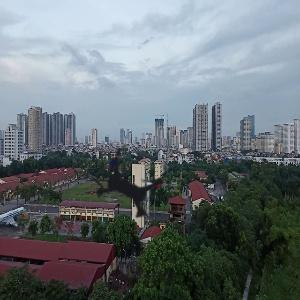drone: (56, 115, 198, 257)
